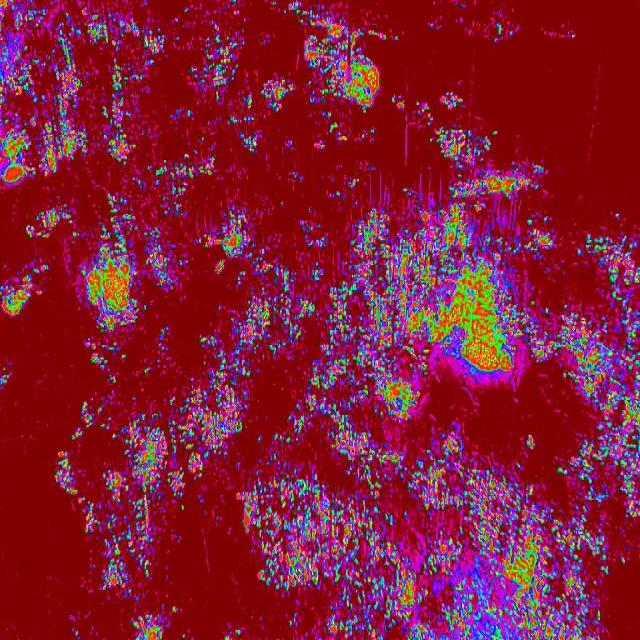fire: (248, 191, 640, 640), (0, 0, 396, 190), (81, 190, 246, 504), (79, 505, 184, 640), (434, 128, 550, 192), (0, 260, 54, 318), (54, 416, 80, 500), (22, 206, 72, 238), (438, 86, 468, 112)
